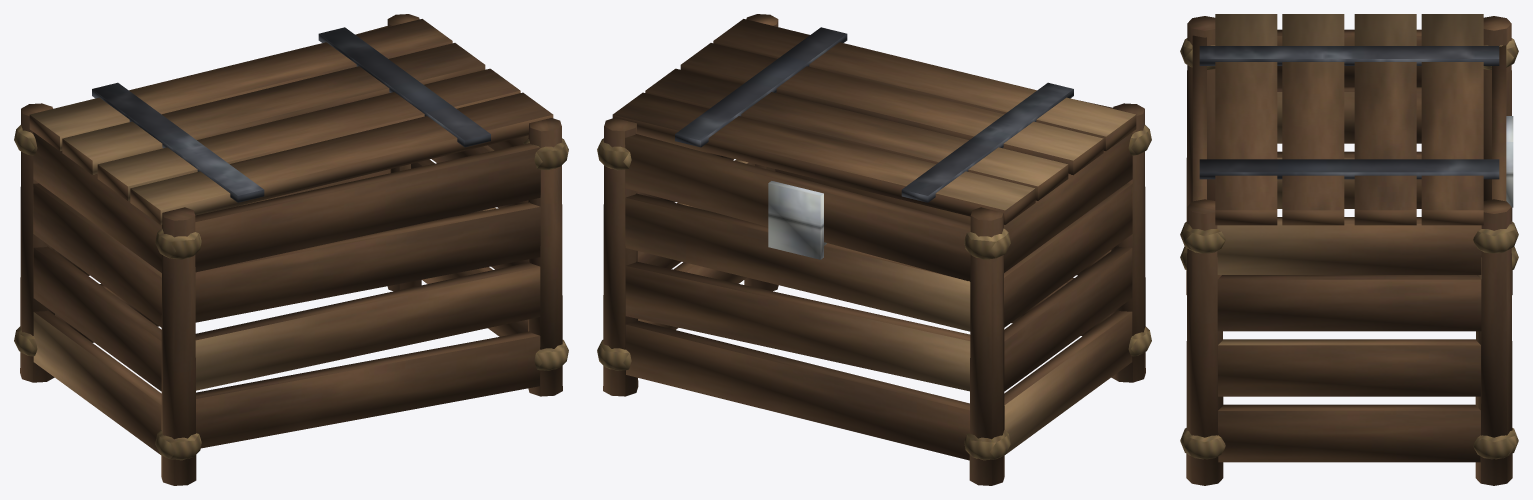
File: crate_storage.glb
The picture shows the model from 3 angles, left to right: view 1: azimuth 30°, elevation 25°; view 2: azimuth 150°, elevation 25°; view 3: azimuth 270°, elevation 25°; orthographic projection. The views are drawn at different scales.
Visible parts, largest first — view 1: Crate_Storage; view 2: Crate_Storage; view 3: Crate_Storage.
Boxes of the visible parts, bbox=[...] form: Crate_Storage: bbox=[14, 14, 568, 485]; Crate_Storage: bbox=[597, 14, 1151, 485]; Crate_Storage: bbox=[1180, 14, 1518, 485].
Size of what is drawn, in the model's own units: 0.9313 by 0.5925 by 0.656.
Materials: 4 (4 with a texture image).
